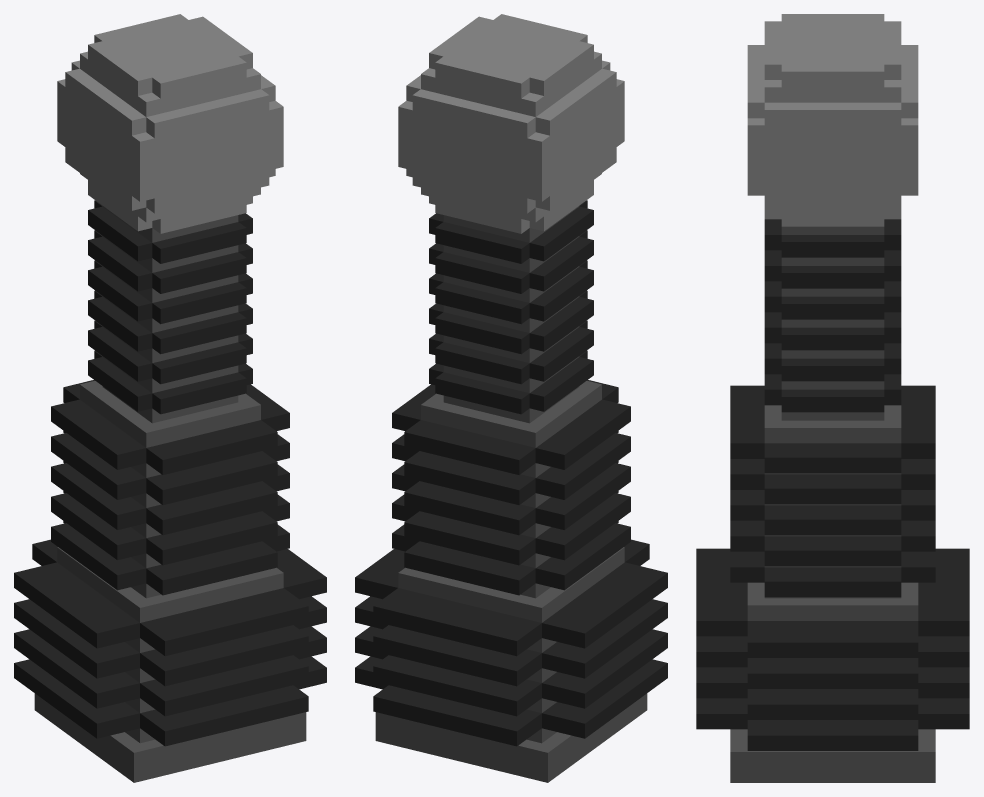
The model's file is Robot_vox-1-14.obj.
The picture shows the model from 3 angles, left to right: view 1: azimuth 30°, elevation 25°; view 2: azimuth 150°, elevation 25°; view 3: azimuth 270°, elevation 25°; orthographic projection. The views are drawn at different scales.
Size of the model in its own units: 1.6 by 4.5 by 1.6.
Materials: 1 (1 with a texture image).
